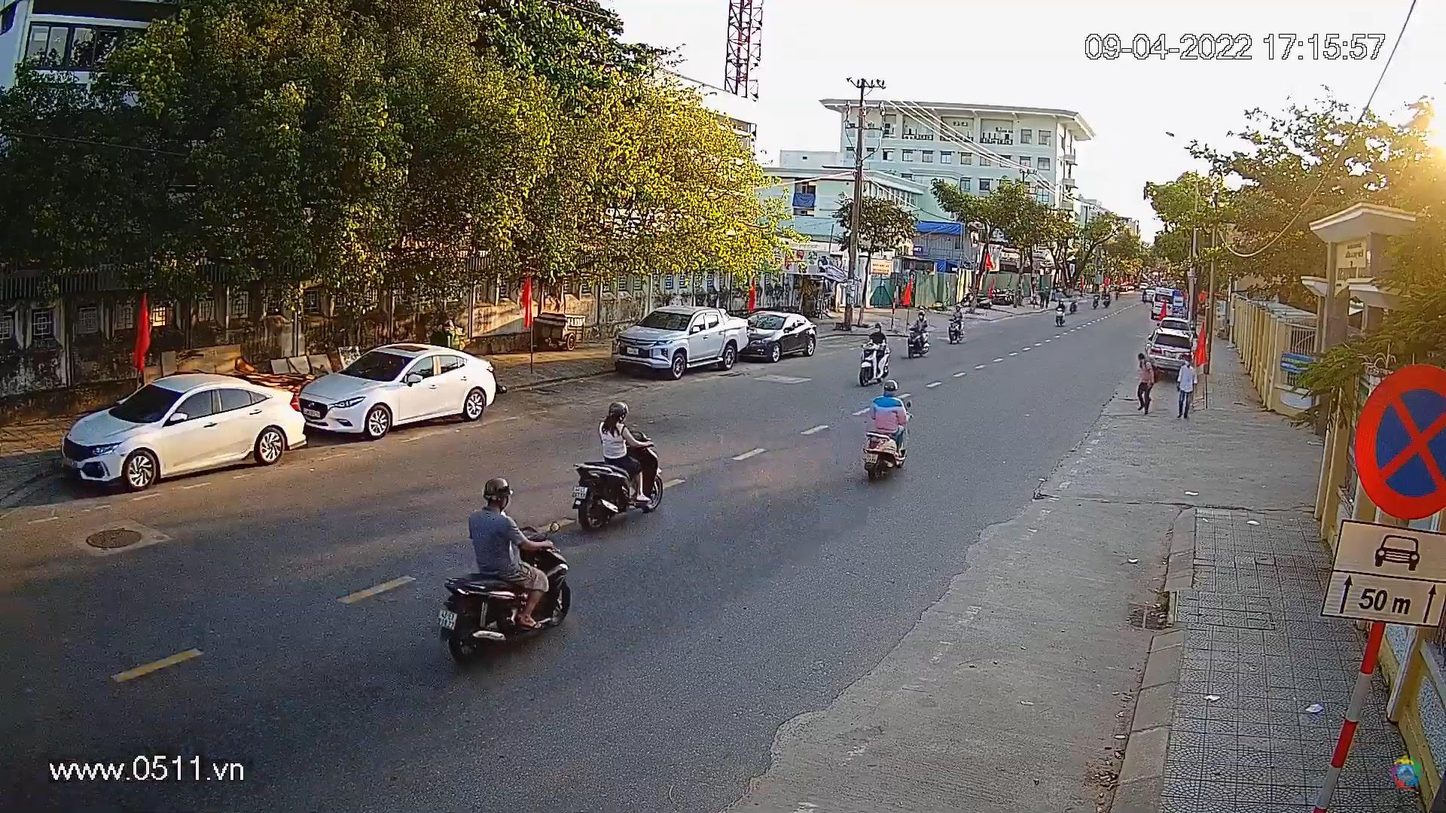car: (60, 370, 307, 491), (291, 344, 498, 441), (612, 309, 751, 382), (741, 312, 817, 359)
